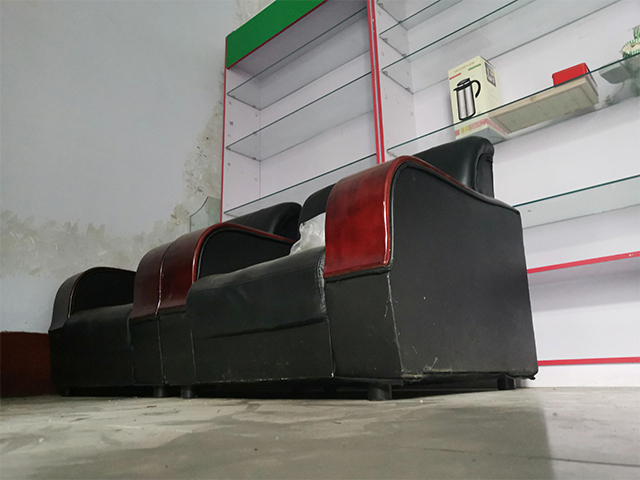sofa: (45, 134, 541, 403)
